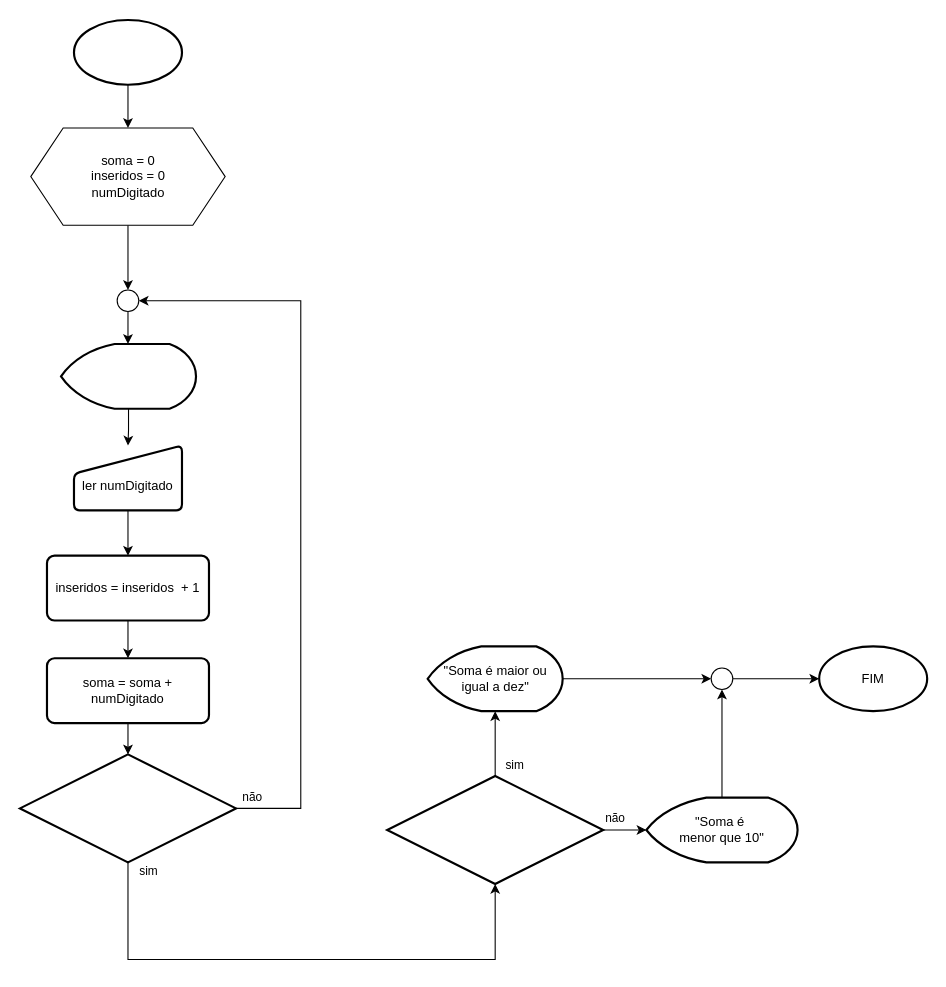
Image size: 946x987. Some labels were removed from this diagram. Here are the shapes that lost their labels. From the top down, the centre of each, then its label:
pixel 127 51: INÍCIO
pixel 128 375: "Insira um número inteiro: "
pixel 127 808: inseridos < 2
pixel 495 829: soma >= 10
